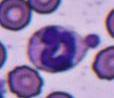N: (26, 24, 84, 72)
